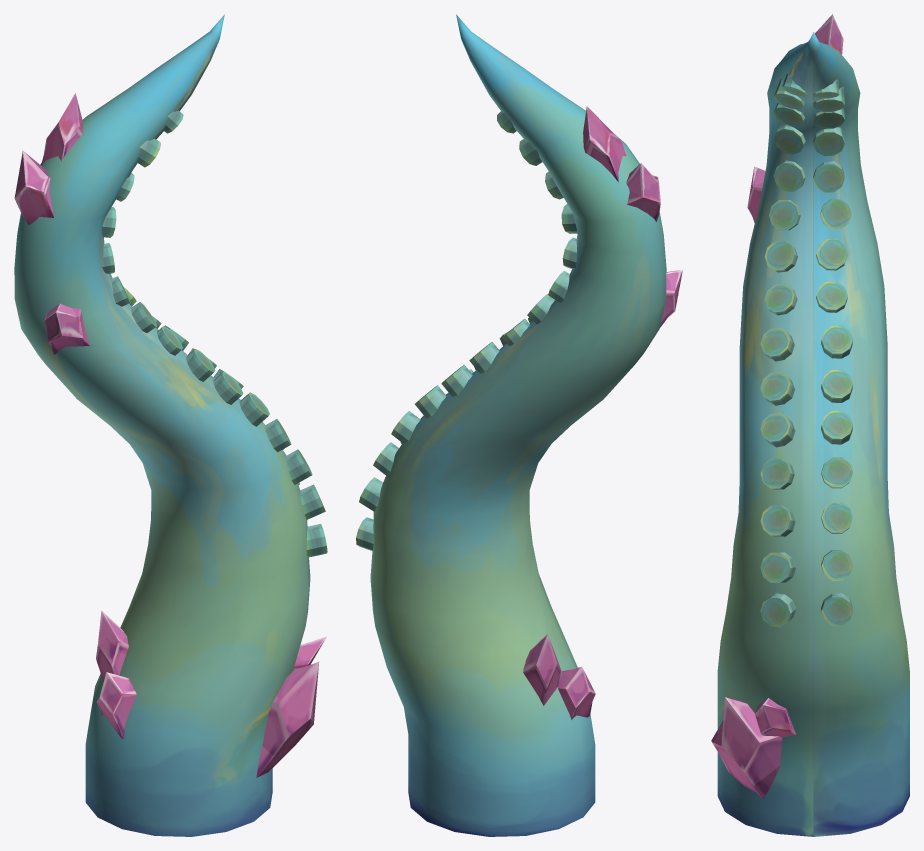
Rendered from SM_tentacle2.fbx.
3 views of the same model, side by side, from view 1: azimuth 30°, elevation 25°; view 2: azimuth 150°, elevation 25°; view 3: azimuth 270°, elevation 25° (orthographic).
Visible parts, largest first — view 1: tentacle2; view 2: tentacle2; view 3: tentacle2.
Boxes of the visible parts, left/top/right/bottom form: tentacle2: left=14, top=14, right=327, bottom=836; tentacle2: left=356, top=14, right=682, bottom=836; tentacle2: left=711, top=14, right=909, bottom=836.
Bounding box in the file's own units: 121 × 304 × 69.57.
